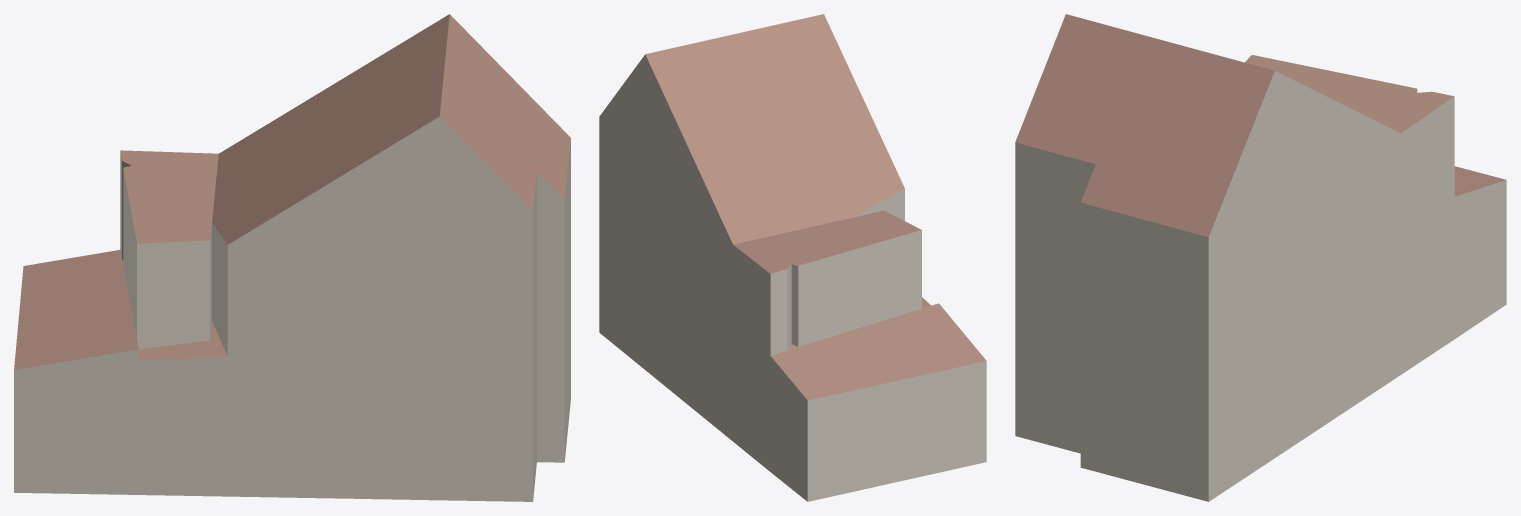
3 renders of one model, left to right at view 1: azimuth 30°, elevation 25°; view 2: azimuth 150°, elevation 25°; view 3: azimuth 270°, elevation 25°, orthographic. The views are drawn at different scales.
Bounding box in the file's own units: 13.84 × 9.89 × 11.34.
